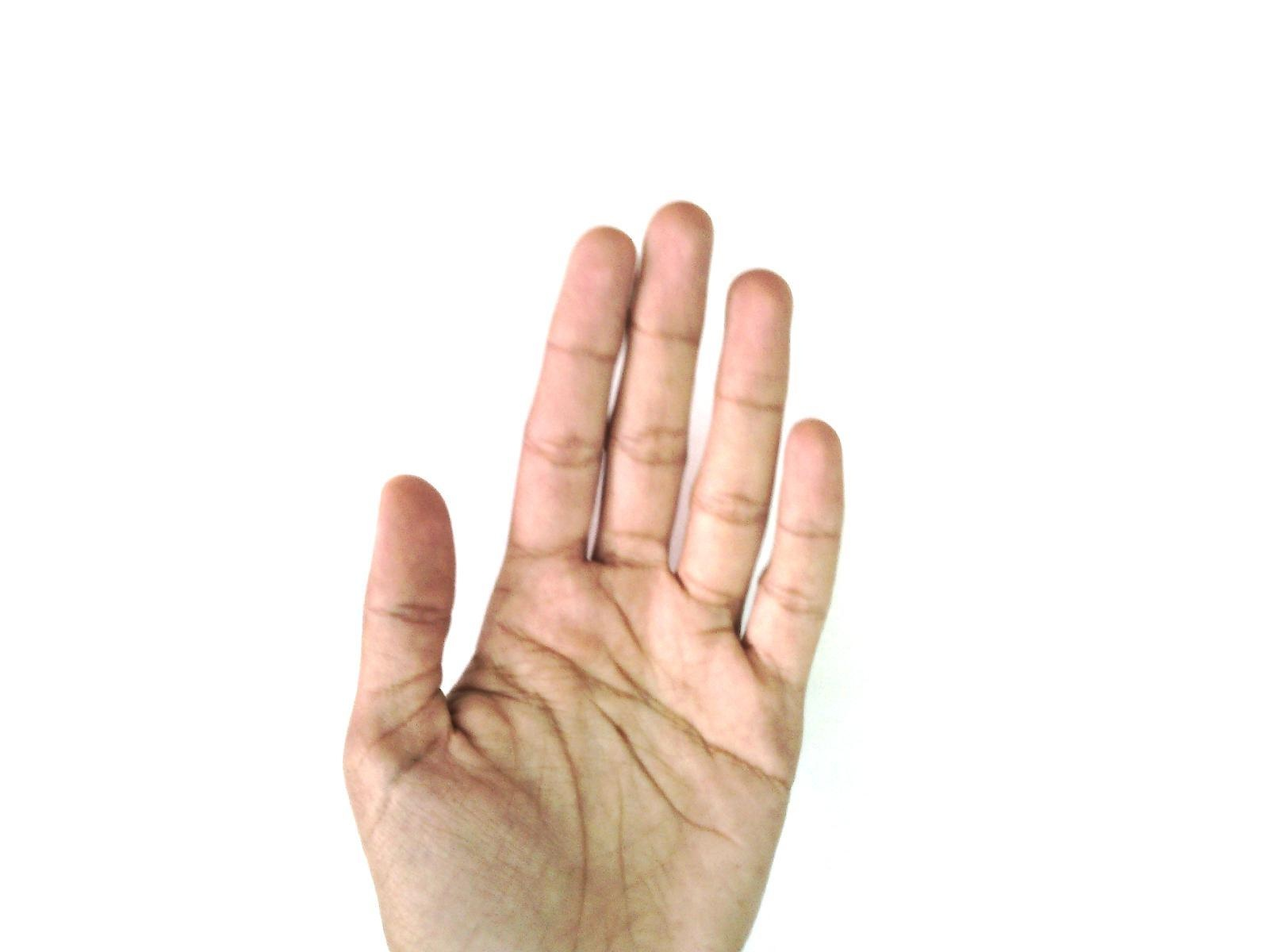open_palm: (341, 201, 849, 951)
